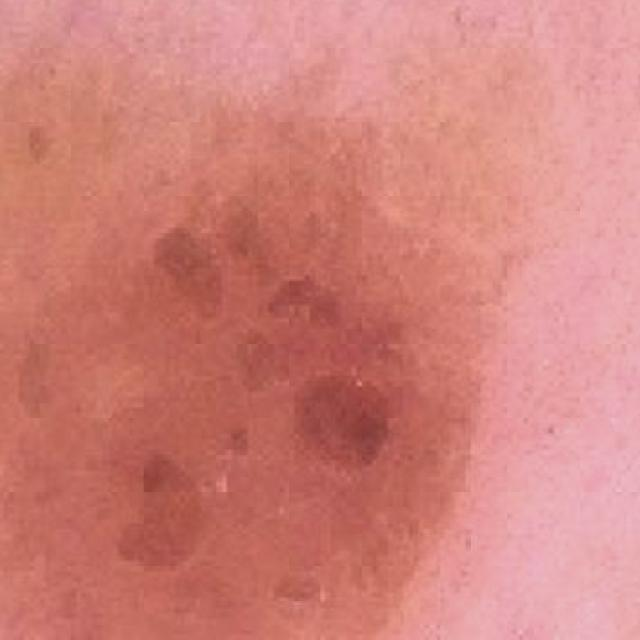BKL: (0, 0, 535, 640)
